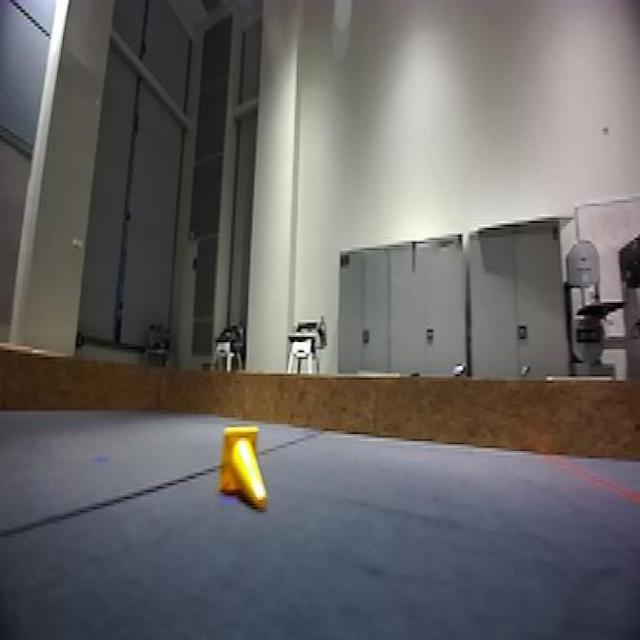frc_cone: (216, 424, 271, 511)
